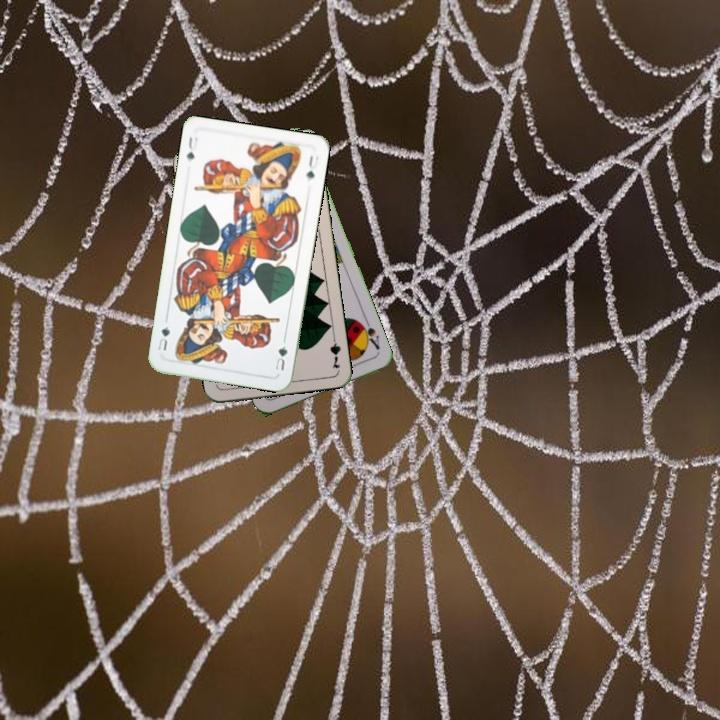G7: (326, 331, 343, 371)
GU: (271, 342, 290, 373), (182, 132, 200, 162)
SA: (356, 317, 382, 352)
